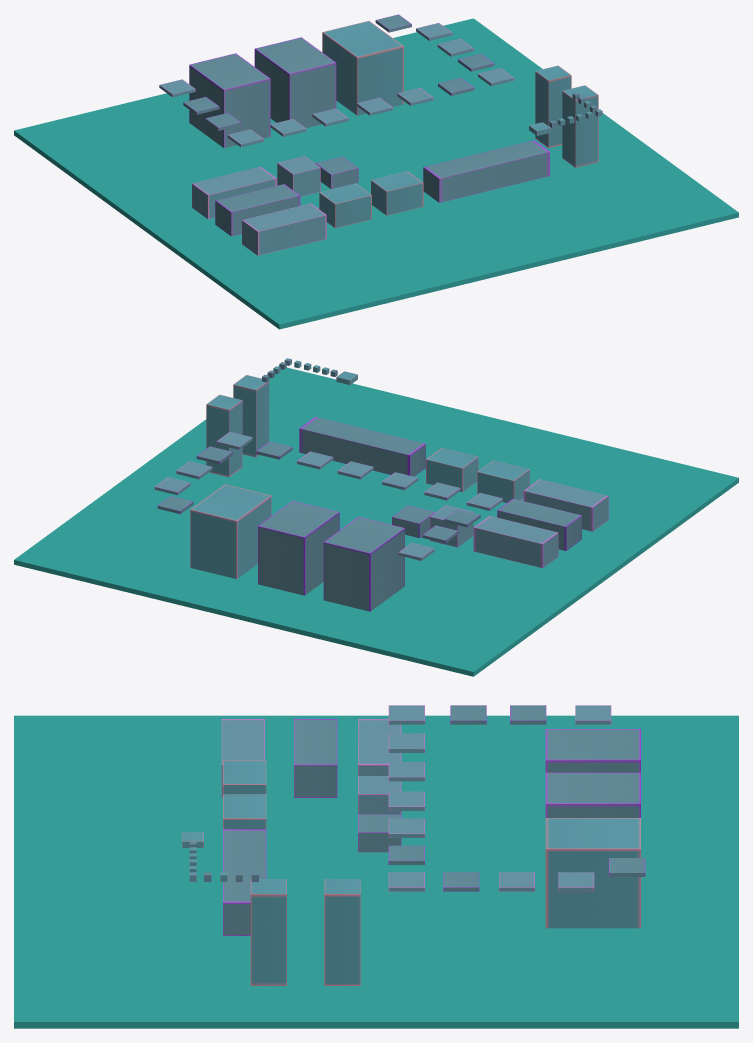
File: stage1.obj
The picture shows the model from 3 angles, top to bottom: view 1: azimuth 30°, elevation 25°; view 2: azimuth 150°, elevation 25°; view 3: azimuth 270°, elevation 25°; orthographic projection. The views are drawn at different scales.
Parts seen in each view (by area): view 1: 立方体.002; view 2: 立方体.002; view 3: 立方体.002.
Part boxes in pixels (x1,y1,x2,y2): 立方体.002: [14, 14, 738, 329]; 立方体.002: [14, 358, 738, 676]; 立方体.002: [14, 705, 738, 1028].
Size of the model in its own units: 200 by 35.41 by 200.
